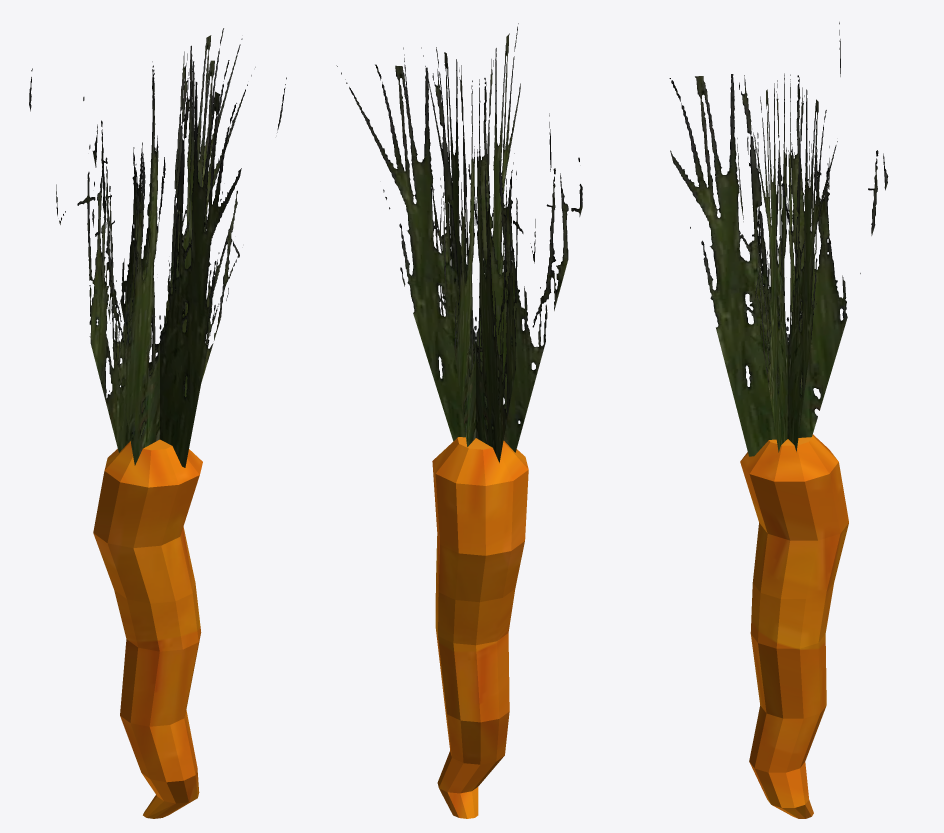
File: ITFO_CARROT.glb
3 renders of one model, left to right at view 1: azimuth 30°, elevation 25°; view 2: azimuth 150°, elevation 25°; view 3: azimuth 270°, elevation 25°, orthographic. The views are drawn at different scales.
Visible parts, largest first — view 1: ITFO_CARROT; view 2: ITFO_CARROT; view 3: ITFO_CARROT.
Boxes of the visible parts, left/top/right/bottom form: ITFO_CARROT: left=29, top=28, right=286, bottom=818; ITFO_CARROT: left=336, top=23, right=582, bottom=818; ITFO_CARROT: left=669, top=22, right=888, bottom=818.
Size of the model in its own units: 0.1654 by 0.5091 by 0.1763.
Materials: 2 (2 with a texture image).
